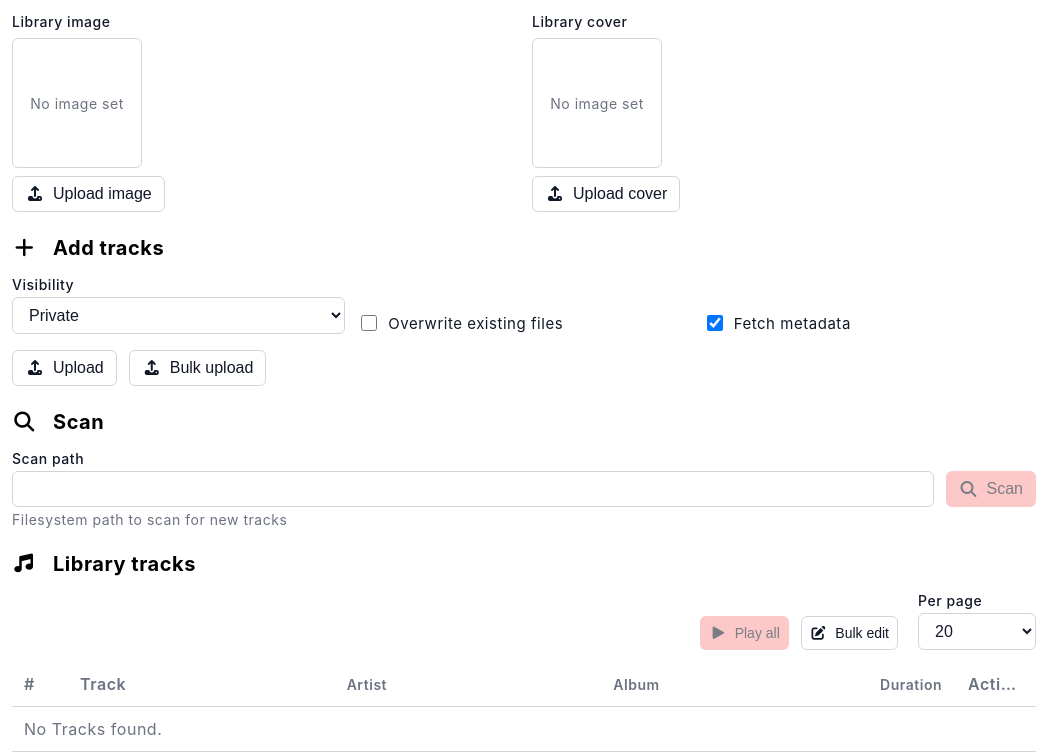
LibraryEditView › surfaces a scan error
(page scrolled)
Type "/bad/path" into the field labelled "Scan path". click: (473,489)
box: [12, 471, 934, 507]
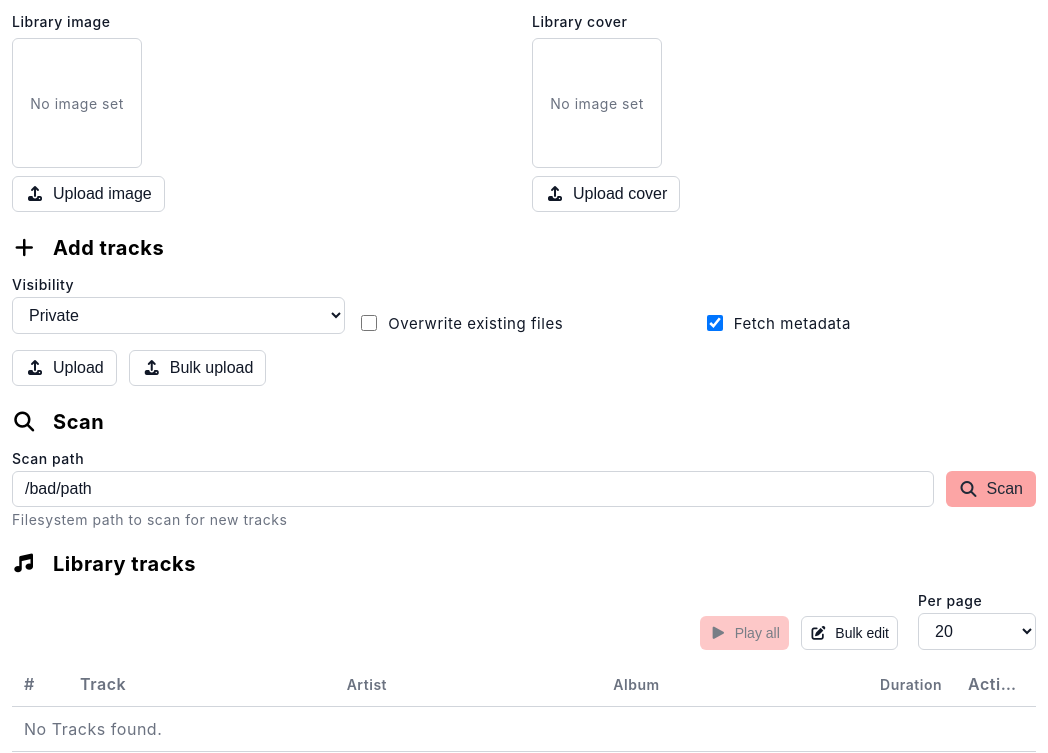
Click the button "Scan". click: (991,489)
box: [946, 471, 1036, 507]
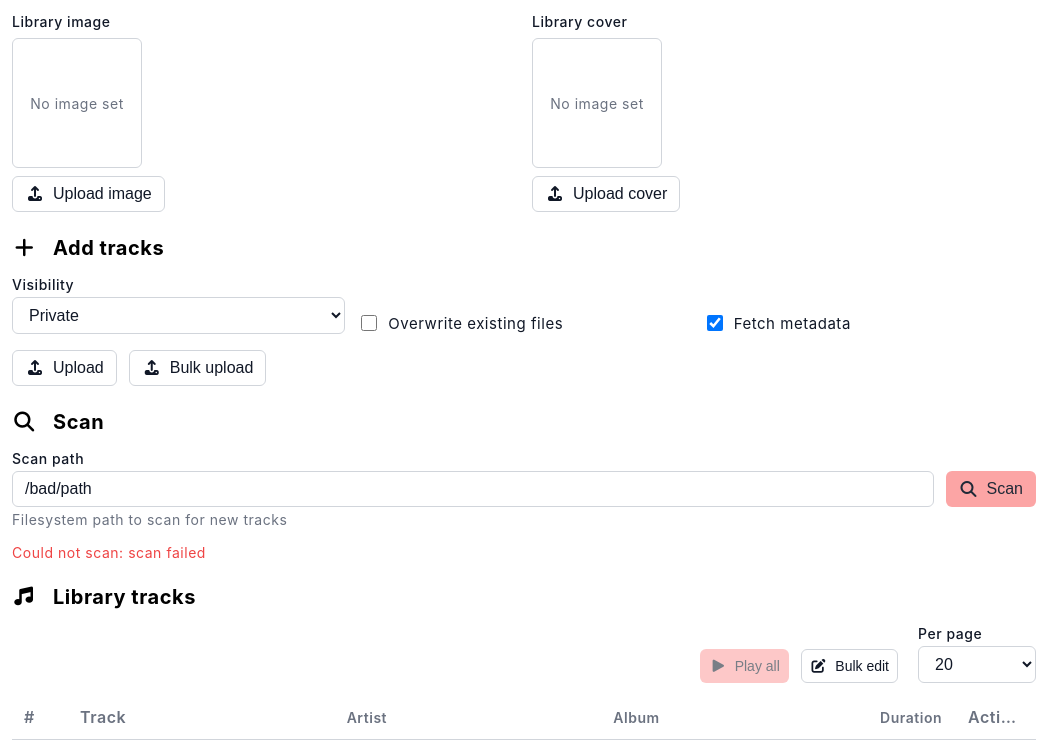
Expected: the text "scan failed" is shown, [12, 544, 206, 561]
